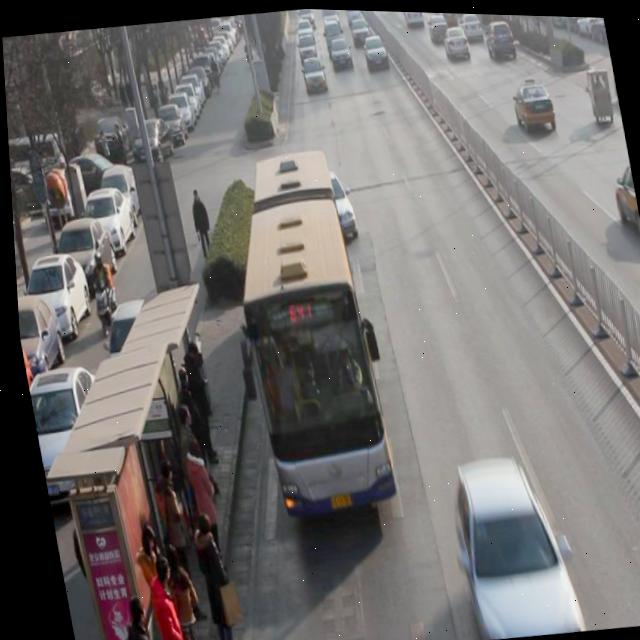car: (436, 448, 580, 640), (509, 71, 557, 132), (483, 16, 518, 60), (442, 22, 472, 61), (300, 53, 328, 94), (361, 31, 389, 70), (327, 35, 354, 69), (427, 10, 451, 42), (459, 11, 484, 41)
van: (215, 142, 391, 511)
